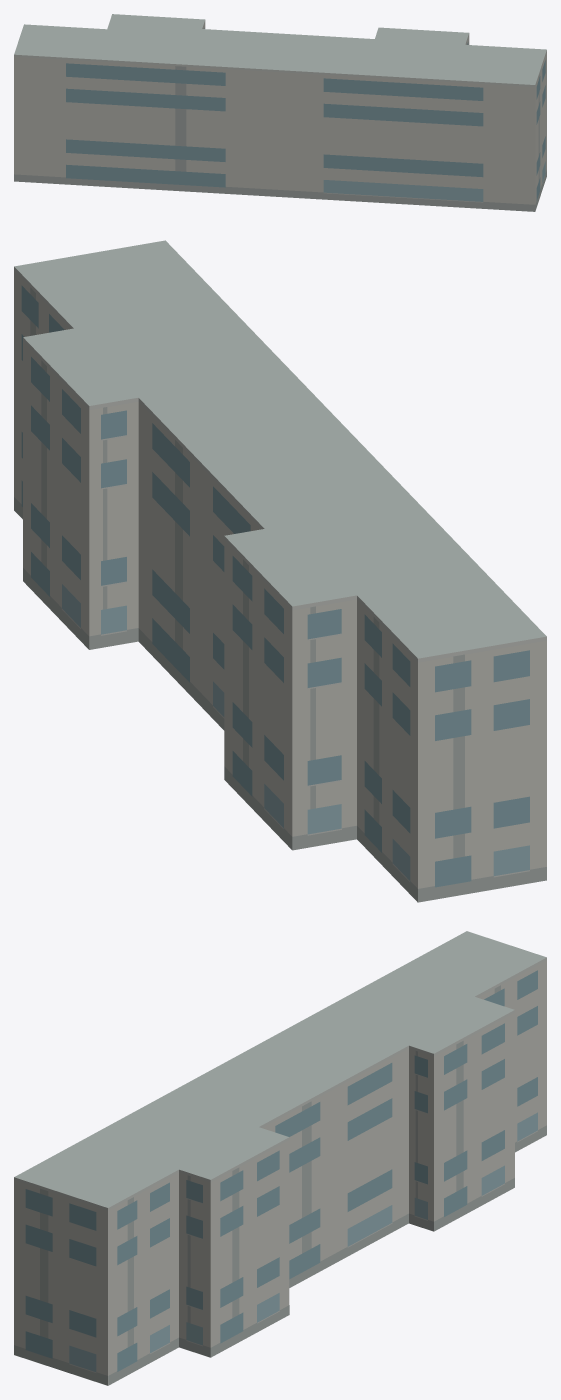
The model's file is residential-1027962a-6d51-453e-96ed-0d984f1b1ff2.glb.
3 renders of one model, top to bottom at view 1: azimuth 30°, elevation 25°; view 2: azimuth 150°, elevation 25°; view 3: azimuth 270°, elevation 25°, orthographic. The views are drawn at different scales.
Parts seen in each view (by area): view 1: residential-1027962a-6d51-453e-96ed-0d984f1b1ff2.tmp; view 2: residential-1027962a-6d51-453e-96ed-0d984f1b1ff2.tmp; view 3: residential-1027962a-6d51-453e-96ed-0d984f1b1ff2.tmp.
Boxes of the visible parts, x1,y1,x2,y2 form: residential-1027962a-6d51-453e-96ed-0d984f1b1ff2.tmp: (14, 14, 546, 211); residential-1027962a-6d51-453e-96ed-0d984f1b1ff2.tmp: (14, 240, 546, 902); residential-1027962a-6d51-453e-96ed-0d984f1b1ff2.tmp: (14, 931, 546, 1385).
Size of the model in its own units: 50.98 by 15.25 by 41.43.
